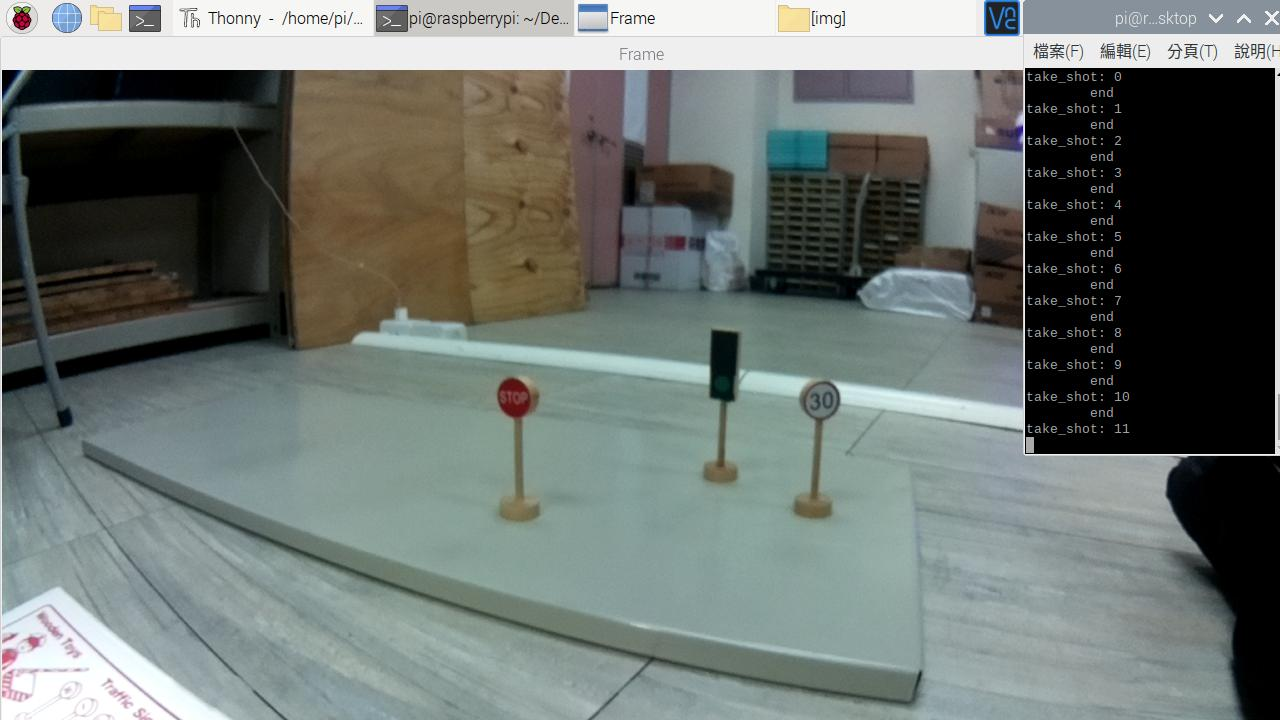Green: (707, 327, 736, 403)
Speed30: (802, 378, 842, 420)
Stop: (494, 375, 541, 417)
